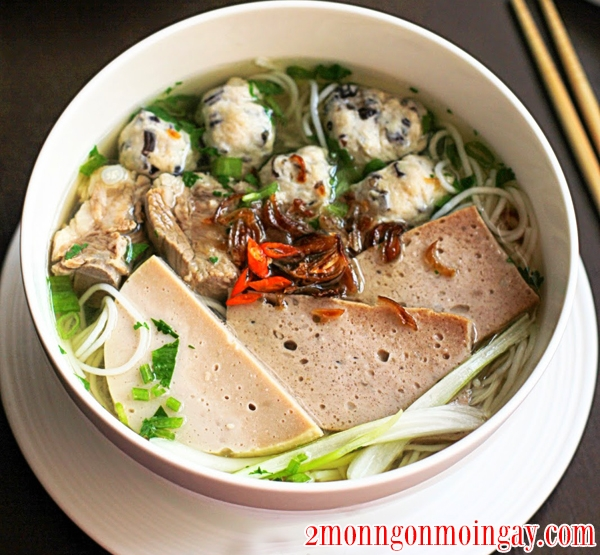chamoc: (109, 262, 312, 446), (232, 284, 467, 430), (327, 79, 428, 163), (347, 156, 443, 231), (201, 84, 280, 166)
chilli: (228, 238, 298, 293)
pork: (55, 163, 141, 296), (152, 172, 243, 289)
